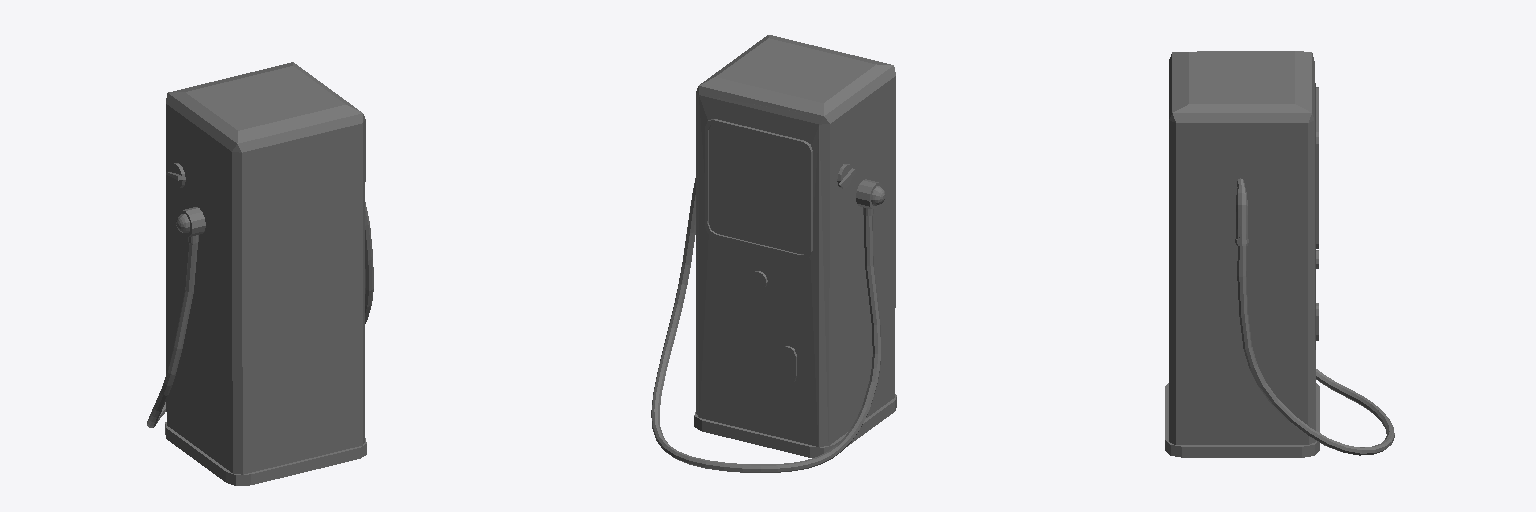
Rendered from Gas.obj.
The picture shows the model from 3 angles: view 1: azimuth 30°, elevation 25°; view 2: azimuth 150°, elevation 25°; view 3: azimuth 270°, elevation 25°; orthographic projection.
Visible parts, largest first — view 1: polySurface18; view 2: polySurface18; view 3: polySurface18.
Boxes of the visible parts, <box> form: polySurface18: <box>147,62,373,485</box>; polySurface18: <box>651,35,896,472</box>; polySurface18: <box>1165,51,1394,457</box>.
Size of the model in its own units: 2.53 by 4.1 by 2.46.